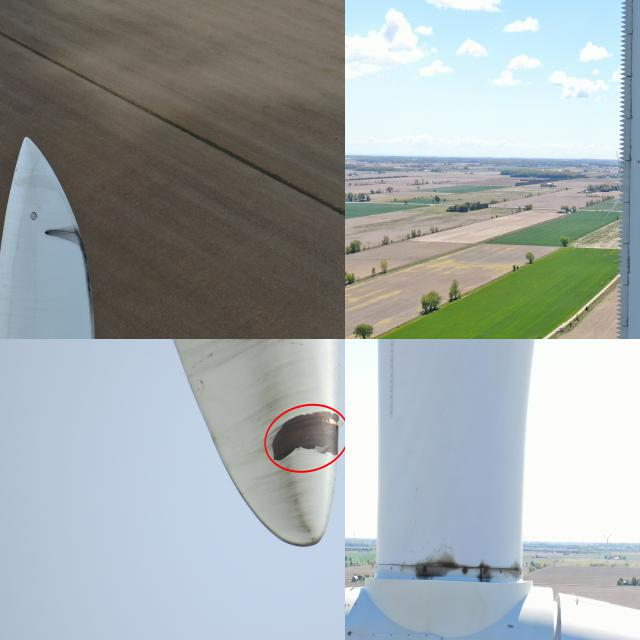damage: (266, 409, 342, 462), (410, 527, 464, 591), (472, 543, 524, 590), (42, 218, 84, 258), (624, 135, 636, 163), (627, 90, 636, 120), (626, 244, 630, 286)
